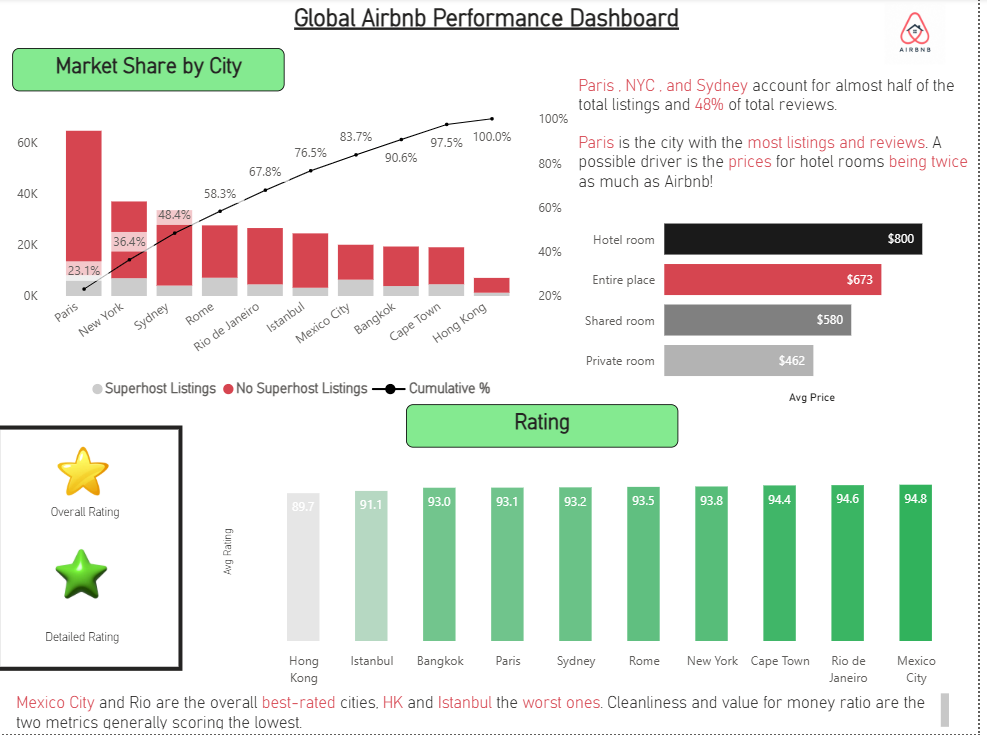

The dashboard page shown, as its layout file describes it:
{"tool":"powerbi","page":{"name":"Ratings","canvas":[960,720],"ordinal":1},"visuals":[{"type":"textbox","box":[150.4,0,659.1,59.9],"z":0},{"type":"image","box":[42.2,428.8,84.4,67.8],"z":0,"group":"g3"},{"type":"image","box":[35.2,526.2,96.7,75.6],"z":0,"group":"g2"},{"type":"image","box":[847.4,0,103.9,69.7],"z":1000},{"type":"textbox","box":[35,610.6,97.8,38.9],"z":1000,"group":"g2"},{"type":"textbox","box":[15.6,48.9,266.7,42.2],"z":2000},{"type":"textbox","box":[15,673.8,922.5,46.2],"z":3000},{"type":"lineStackedColumnComboChart","fields":{"Category":["Listings.city"],"Y":["Listings.Superhost Listings","Listings.No Superhost Listings"],"Y2":["Listings.Cumulative %"]},"box":[15.6,102.2,550,300],"z":4000},{"type":"barChart","fields":{"Category":["Listings.room_type"],"Y":["Listings.Avg Price"]},"box":[565.6,192.2,383.3,210],"z":5000},{"type":"textbox","box":[565.6,70,394.4,137.8],"z":6000},{"type":"textbox","box":[401.2,397.5,266.2,42.5],"z":8000},{"type":"shape","box":[0,418.8,182.5,240],"z":10000},{"type":"pivotTable","fields":{"Rows":["Listings.city"],"Values":["Listings.Cleanliness","Listings.Communication","Listings.Location","Listings.Value","Listings.Accuracy"]},"box":[214,439,722.7,234.8],"z":10500},{"type":"group","id":"g1","title":"Group 1","box":[35,428.8,102.5,97.5],"z":11000},{"type":"group","id":"g2","title":"Group 2","box":[35,526.2,97.5,123.8],"z":12000},{"type":"textbox","box":[35,487.7,103.3,37.8],"z":12001,"group":"g3"},{"type":"group","id":"g3","title":"Group 3","box":[35,428.8,103.3,96.7],"z":12003,"group":"g1"}]}

Visuals, with their boxes in screenshot pixels (x1, y1, x2, y2), scaled from the page's 960x720 canvas onto the 987x735 screenshot:
textbox: (left=155, top=0, right=832, bottom=61)
image: (left=43, top=438, right=130, bottom=507)
image: (left=36, top=537, right=136, bottom=614)
image: (left=871, top=0, right=978, bottom=71)
textbox: (left=36, top=623, right=137, bottom=663)
textbox: (left=16, top=50, right=290, bottom=93)
textbox: (left=15, top=688, right=964, bottom=734)
lineStackedColumnComboChart - Listings.city x Listings.Superhost Listings: (left=16, top=104, right=582, bottom=411)
barChart - Listings.room_type x Listings.Avg Price: (left=582, top=196, right=976, bottom=411)
textbox: (left=582, top=71, right=986, bottom=212)
textbox: (left=412, top=406, right=686, bottom=449)
shape: (left=0, top=428, right=188, bottom=673)
pivotTable - Listings.city x Listings.Cleanliness: (left=220, top=448, right=963, bottom=688)
"Group 1" group: (left=36, top=438, right=141, bottom=537)
"Group 2" group: (left=36, top=537, right=136, bottom=664)
textbox: (left=36, top=498, right=142, bottom=536)
"Group 3" group: (left=36, top=438, right=142, bottom=536)
